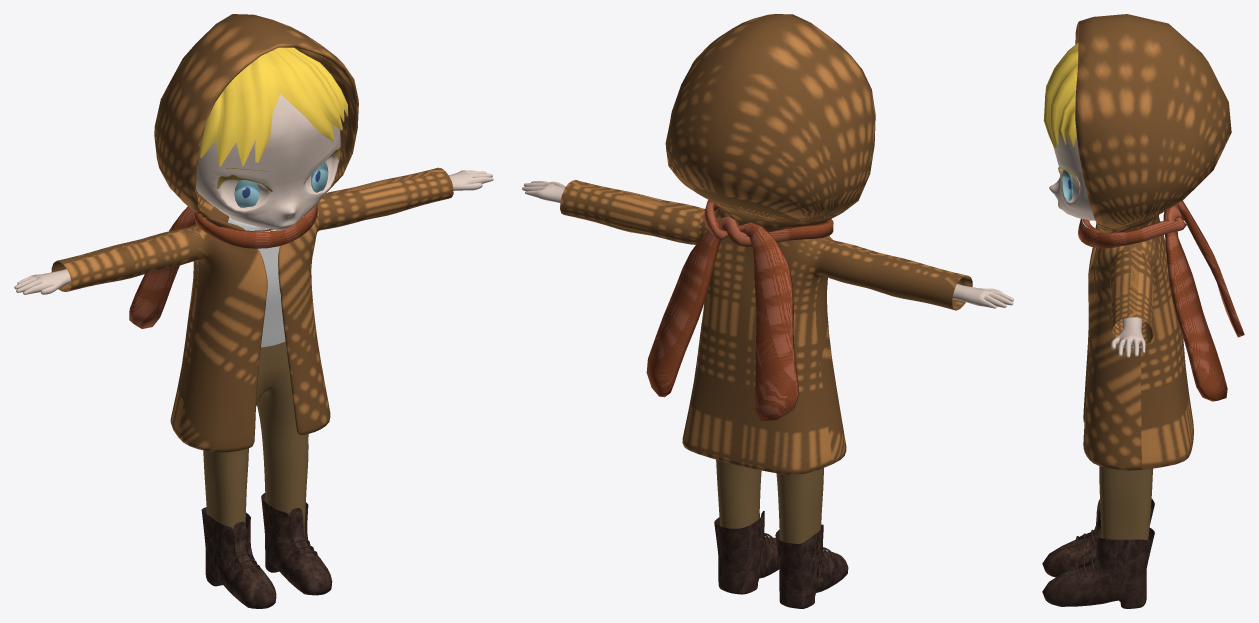
The model's file is [그래프트] 핀_NEWUV.fbx.
3 renders of one model, left to right at view 1: azimuth 30°, elevation 25°; view 2: azimuth 150°, elevation 25°; view 3: azimuth 270°, elevation 25°, orthographic. The views are drawn at different scales.
Visible parts, largest first — view 1: cloth, Plane, NurbsPath.003, down, Circle, Plane.001, Plane.003, Plane.002; view 2: cloth, Circle, down, Plane.001, Plane.003, Plane; view 3: cloth, Circle, Plane.003, down, Plane, NurbsPath.003, Plane.001.
Part boxes in pixels (bbox=[...]): cloth: bbox=[51, 14, 453, 452]; Plane: bbox=[14, 94, 493, 294]; NurbsPath.003: bbox=[199, 47, 347, 166]; down: bbox=[203, 341, 308, 538]; Circle: bbox=[129, 203, 317, 328]; Plane.001: bbox=[201, 507, 276, 608]; Plane.003: bbox=[261, 493, 332, 595]; Plane.002: bbox=[228, 216, 285, 347]; cloth: bbox=[560, 14, 972, 474]; Circle: bbox=[646, 200, 833, 421]; down: bbox=[716, 459, 823, 543]; Plane.001: bbox=[775, 524, 848, 608]; Plane.003: bbox=[714, 511, 779, 594]; Plane: bbox=[522, 180, 1013, 308]; cloth: bbox=[1075, 14, 1231, 470]; Circle: bbox=[1078, 200, 1244, 401]; Plane.003: bbox=[1042, 527, 1154, 608]; down: bbox=[1088, 335, 1153, 539]; Plane: bbox=[1049, 129, 1145, 357]; NurbsPath.003: bbox=[1043, 42, 1078, 148]; Plane.001: bbox=[1042, 499, 1154, 577].
Bounding box in the file's own units: 210 × 234 × 75.25.
Materials: 5 (5 with a texture image).
